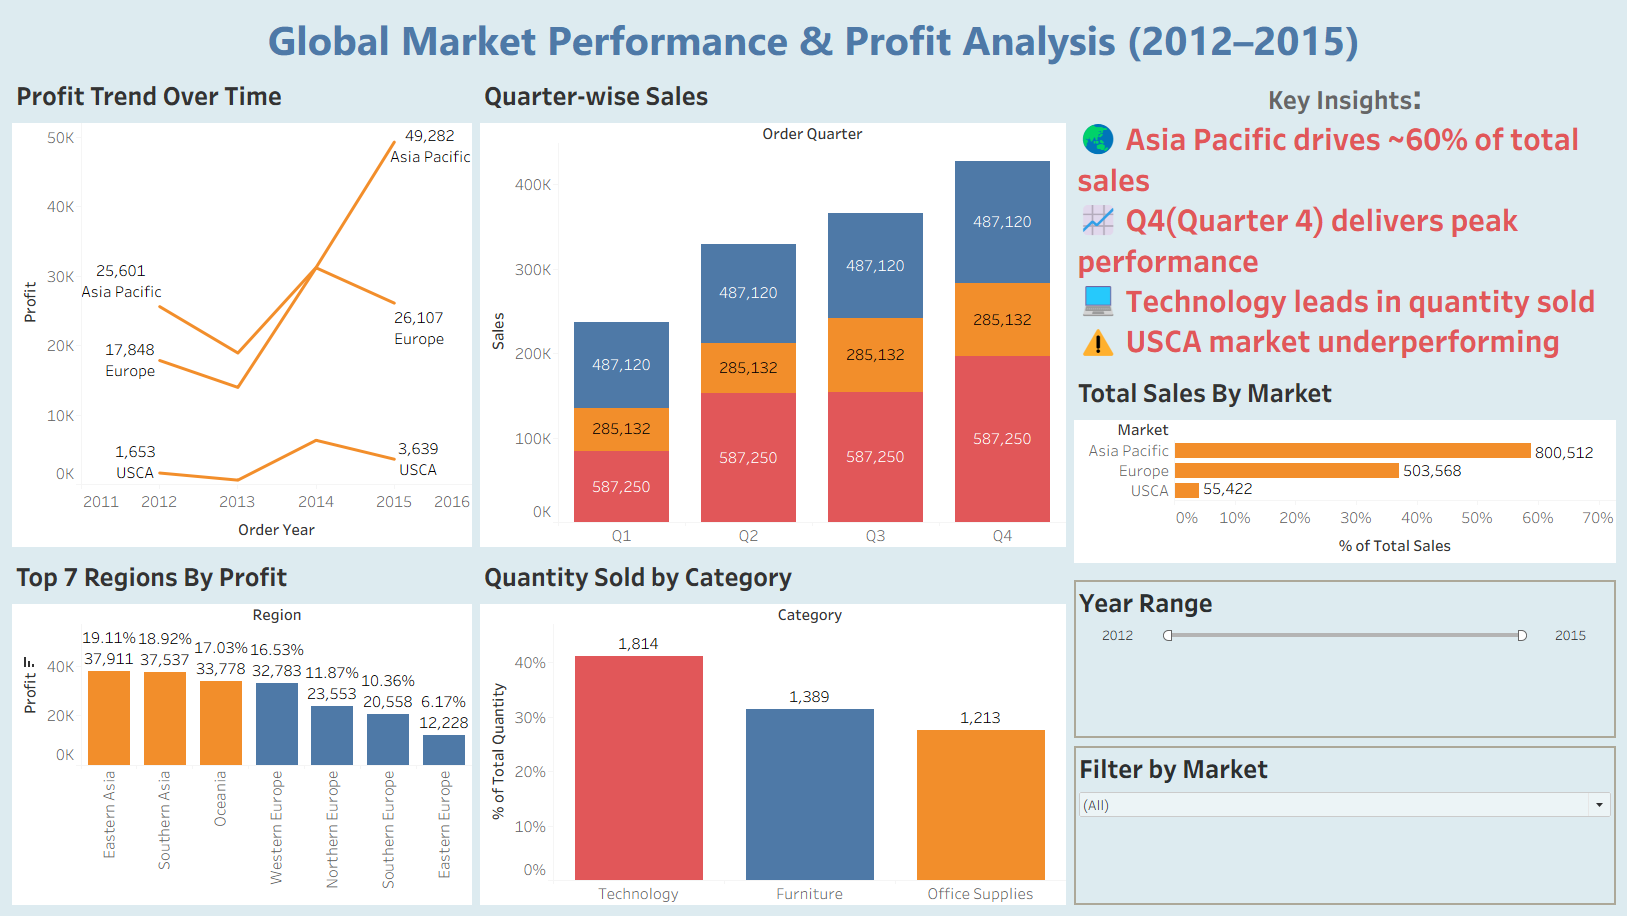

Layout of this report page (visuals, bound fields, positions):
{"tool":"tableau","page":{"name":"Market Trend Comparison Dashboard","canvas":[1000,1000],"units":"permille","ordinal":0},"visuals":[{"type":"title","box":[4.9,8.7,990.2,67.6]},{"type":"worksheet","title":"Profit Trend Over Time ","mark":"Line","rows":["Profit"],"cols":["Order Year"],"box":[4.9,76.3,287.4,524.1]},{"type":"worksheet","title":"Quarter-wise Sales","mark":"Automatic","rows":["Sales"],"cols":["Order Quarter"],"box":[292.4,76.3,364.9,524.5]},{"type":"text","box":[657.2,76.3,337.8,323.9]},{"type":"worksheet","title":"Total Sales by Market","mark":"Automatic","rows":["Market"],"box":[657.2,400.2,337.8,227.9]},{"type":"worksheet","title":"Top 7 Regions By Profit","mark":"Automatic","rows":["Profit"],"cols":["Region"],"box":[4.9,600.5,287.4,390.8]},{"type":"worksheet","title":"Quantity Sold by Category","mark":"Automatic","rows":["Quantity"],"cols":["Category"],"box":[292.4,600.9,364.9,390.4]},{"type":"filter","title":"Quarter-wise Sales","param":"[federated.0gt4v4g17qwtcr0ztbux313kty63].[none:Order Year:qk]","box":[657.2,628.1,337.8,181]},{"type":"filter","title":"Top 7 Regions By Profit","param":"[federated.0gt4v4g17qwtcr0ztbux313kty63].[none:Market:nk]","box":[657.2,809.2,337.8,182.1]}]}

Visuals, with their boxes on the dashboard's canvas, which has no fixed pixel size, in thousandths of its width and height (x1, y1, x2, y2). These are canvas units, not pixel positions in the 1627x916 screenshot, which may show the page scaled, cropped or inside an application window:
title: <region>5, 9, 995, 76</region>
"Profit Trend Over Time " worksheet (Line marks): <region>5, 76, 292, 600</region>
"Quarter-wise Sales" worksheet: <region>292, 76, 657, 601</region>
text: <region>657, 76, 995, 400</region>
"Total Sales by Market" worksheet: <region>657, 400, 995, 628</region>
"Top 7 Regions By Profit" worksheet: <region>5, 600, 292, 991</region>
"Quantity Sold by Category" worksheet: <region>292, 601, 657, 991</region>
"Quarter-wise Sales" filter: <region>657, 628, 995, 809</region>
"Top 7 Regions By Profit" filter: <region>657, 809, 995, 991</region>
